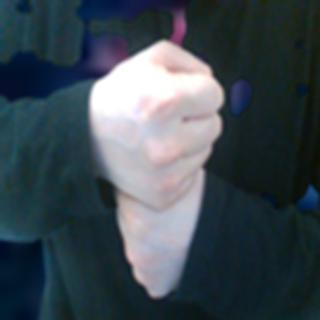CAREFUL: (84, 31, 226, 305)
